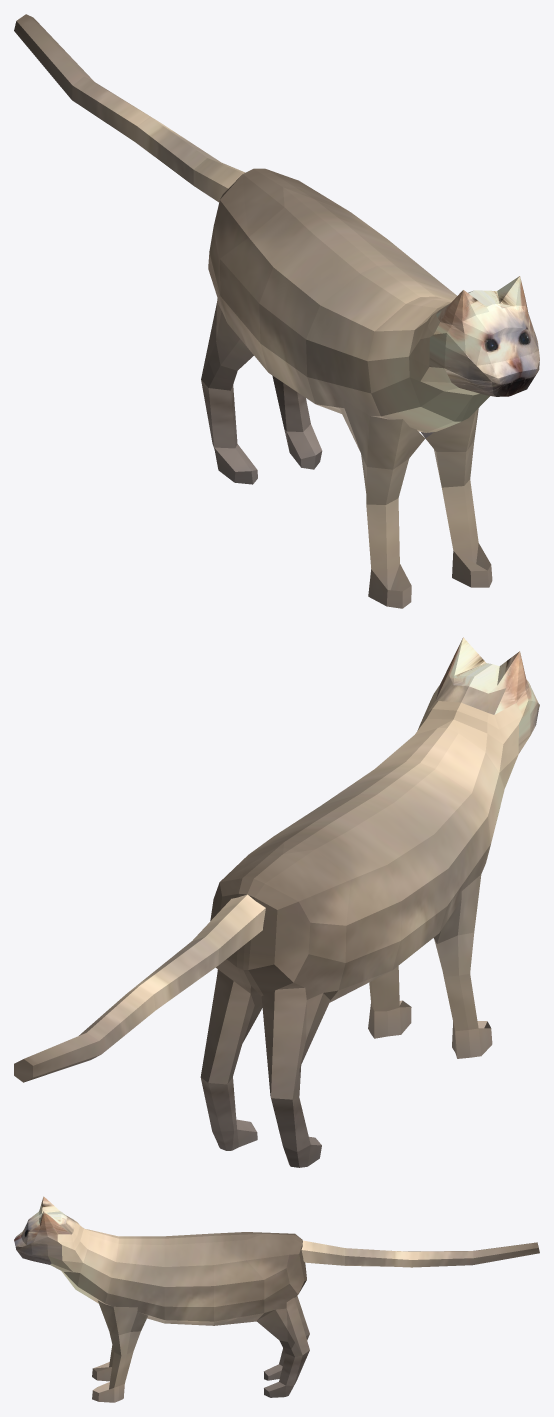
The model's file is thurston.fbx.
3 renders of one model, top to bottom at view 1: azimuth 30°, elevation 25°; view 2: azimuth 150°, elevation 25°; view 3: azimuth 270°, elevation 25°, orthographic. The views are drawn at different scales.
Visible parts, largest first — view 1: thurston; view 2: thurston; view 3: thurston.
Part boxes in pixels (box(x1,y1,x2,y2)): thurston: box(14, 14, 539, 608); thurston: box(14, 637, 539, 1167); thurston: box(14, 1196, 539, 1402).
Size of the model in its own units: 208 by 486 by 1254.
Materials: 1 (1 with a texture image).
